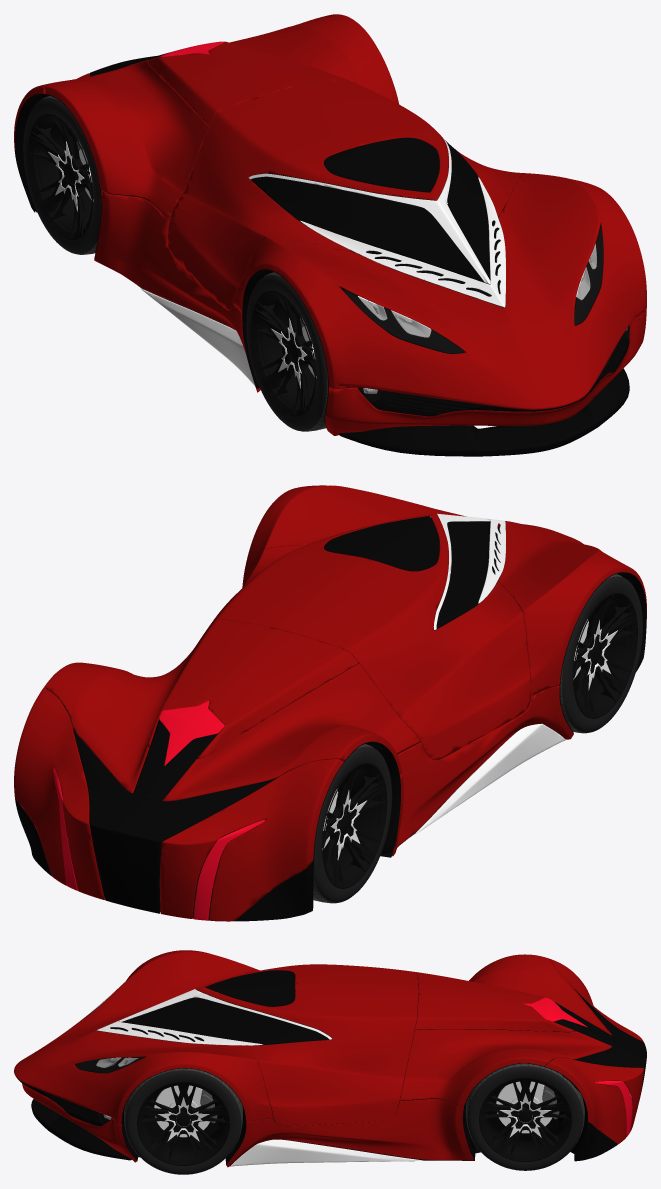
The picture shows the model from 3 angles, top to bottom: view 1: azimuth 30°, elevation 25°; view 2: azimuth 150°, elevation 25°; view 3: azimuth 270°, elevation 25°; orthographic projection. The views are drawn at different scales.
Visible parts, largest first — view 1: Object_15, Object_10, Object_13, Object_22, Object_17, Object_9, Object_11, Object_7, Object_23, Object_2, Object_14, Object_24 (+4 smaller); view 2: Object_10, Object_12, Object_13, Object_15, Object_18, Object_11, Object_22, Object_9, Object_23, Object_2, Object_24, Object_8 (+5 smaller); view 3: Object_10, Object_15, Object_13, Object_9, Object_22, Object_2, Object_11, Object_23, Object_12, Object_7, Object_24, Object_19 (+10 smaller).
Part boxes in pixels (bbox=[...]): Object_15: bbox=[233, 173, 646, 409]; Object_10: bbox=[167, 80, 522, 309]; Object_13: bbox=[44, 14, 399, 219]; Object_22: bbox=[251, 137, 490, 281]; Object_17: bbox=[14, 150, 629, 456]; Object_9: bbox=[94, 190, 260, 392]; Object_11: bbox=[147, 41, 347, 125]; Object_7: bbox=[15, 93, 629, 430]; Object_23: bbox=[28, 116, 316, 415]; Object_2: bbox=[23, 98, 327, 431]; Object_14: bbox=[325, 313, 646, 435]; Object_24: bbox=[28, 114, 316, 416]; Object_10: bbox=[208, 513, 530, 759]; Object_12: bbox=[14, 687, 343, 921]; Object_13: bbox=[44, 629, 419, 801]; Object_15: bbox=[242, 485, 646, 696]; Object_18: bbox=[73, 720, 274, 913]; Object_11: bbox=[147, 619, 358, 758]; Object_22: bbox=[324, 516, 490, 628]; Object_9: bbox=[392, 685, 573, 856]; Object_23: bbox=[321, 594, 637, 887]; Object_2: bbox=[282, 576, 642, 902]; Object_24: bbox=[322, 592, 637, 888]; Object_8: bbox=[53, 700, 265, 920]; Object_10: bbox=[195, 964, 418, 1126]; Object_15: bbox=[14, 950, 273, 1124]; Object_13: bbox=[400, 954, 612, 1105]; Object_9: bbox=[226, 1099, 473, 1167]; Object_22: bbox=[122, 970, 328, 1044]; Object_2: bbox=[125, 1066, 583, 1174]; Object_11: bbox=[415, 972, 574, 1031]; Object_23: bbox=[138, 1078, 570, 1162]; Object_12: bbox=[545, 959, 644, 1144]; Object_7: bbox=[48, 973, 629, 1163]; Object_24: bbox=[137, 1077, 572, 1165]; Object_19: bbox=[109, 989, 423, 1166].
Size of the model in its own units: 2 by 1.1 by 4.65.
Materials: 13 (1 with a texture image).
